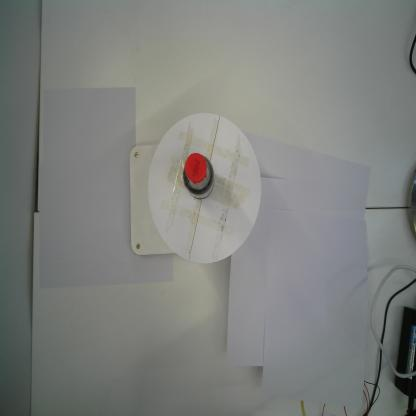Seasoner: (182, 152, 215, 200)
